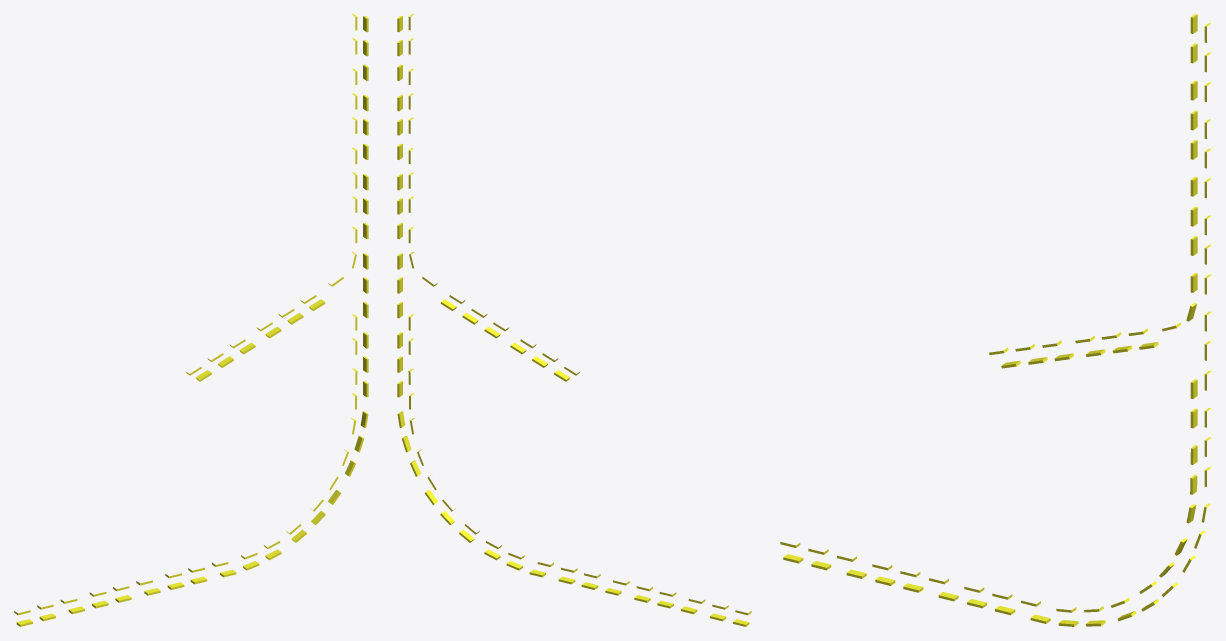
The model's file is LED.glb.
3 views of the same model, side by side, from view 1: azimuth 30°, elevation 25°; view 2: azimuth 150°, elevation 25°; view 3: azimuth 330°, elevation 25° (orthographic). The views are drawn at different scales.
Parts seen in each view (by area): view 1: LED; view 2: LED; view 3: LED.
Part boxes in pixels (x1,y1,x2,y2): LED: (14, 14, 368, 626); LED: (397, 14, 751, 626); LED: (780, 14, 1211, 626).
Size of the model in its own units: 30.91 by 44.45 by 0.5671.
